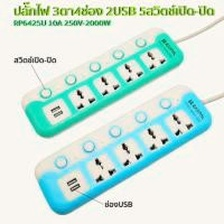three_eye_plug: (32, 81, 214, 219), (18, 23, 186, 142)
